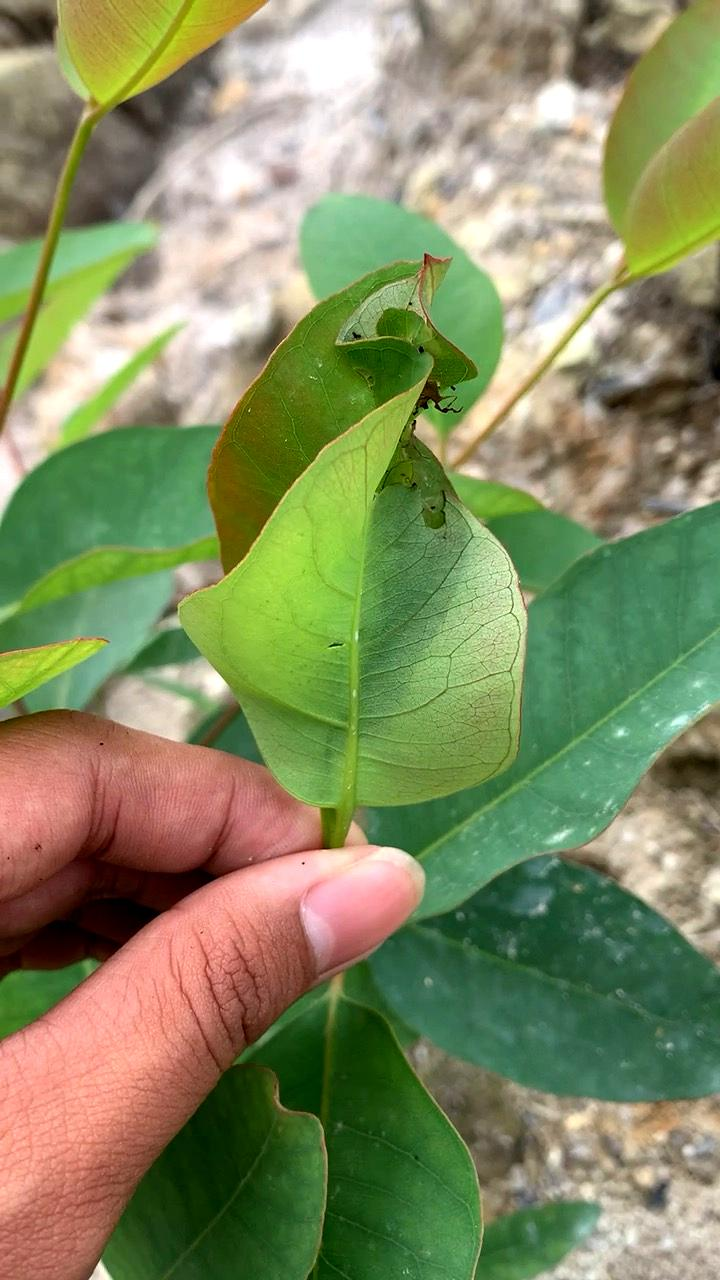Leaf Roller - Leaf: (177, 248, 596, 854)
